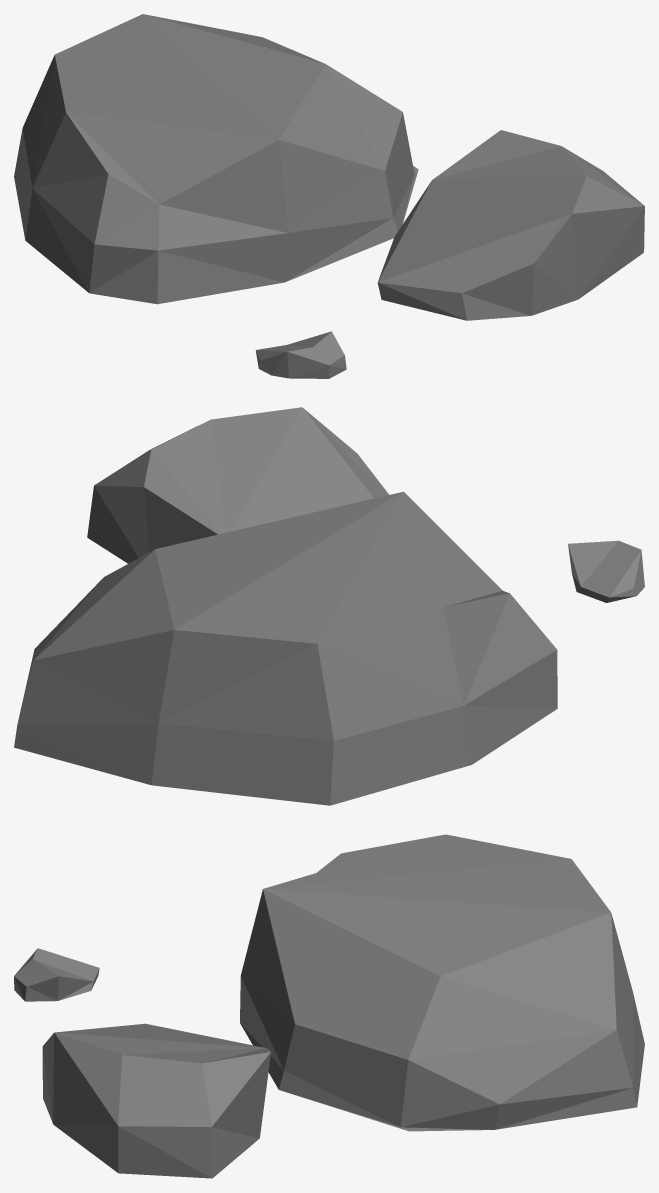
Rendered from stone_3.obj.
3 views of the same model, one above another, from view 1: azimuth 30°, elevation 25°; view 2: azimuth 150°, elevation 25°; view 3: azimuth 270°, elevation 25° (orthographic). The views are drawn at different scales.
Parts seen in each view (by area): view 1: stone_3; view 2: stone_3; view 3: stone_3.
Part boxes in pixels (<box>): stone_3: <box>14,14,644,378</box>; stone_3: <box>14,407,644,805</box>; stone_3: <box>14,834,644,1178</box>.
Size of the model in its own units: 0.9877 by 0.2685 by 1.12.
